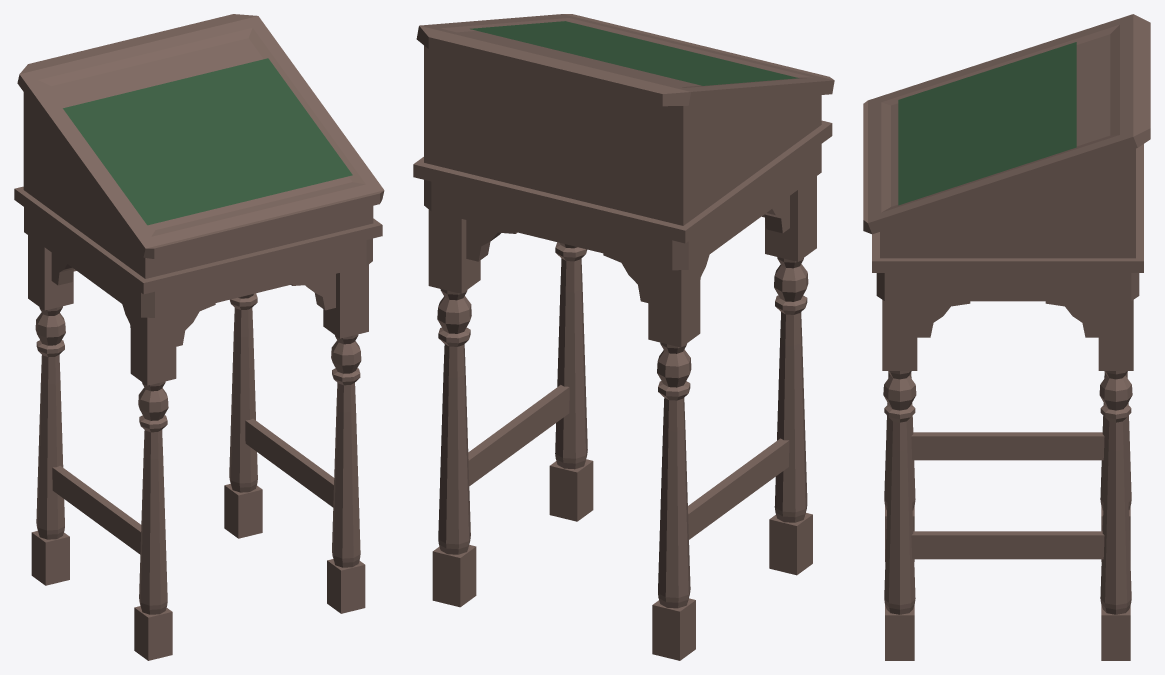
File: ReadingDesk.fbx
3 renders of one model, left to right at view 1: azimuth 30°, elevation 25°; view 2: azimuth 150°, elevation 25°; view 3: azimuth 270°, elevation 25°, orthographic. The views are drawn at different scales.
Visible parts, largest first — view 1: ReadingDesk; view 2: ReadingDesk; view 3: ReadingDesk.
Part boxes in pixels (x1,y1,x2,y2): ReadingDesk: [14, 14, 384, 660]; ReadingDesk: [413, 14, 834, 660]; ReadingDesk: [863, 14, 1150, 660].
Size of the model in its own units: 57.41 by 116 by 56.79.
